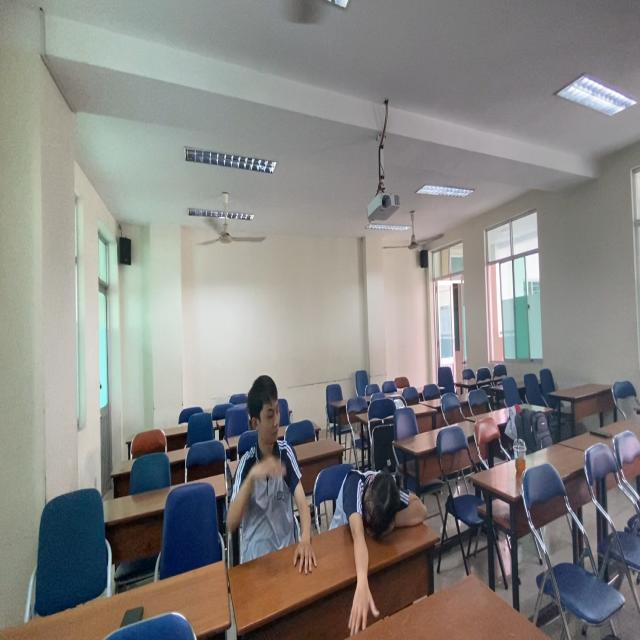sleep: (318, 442, 441, 640)
